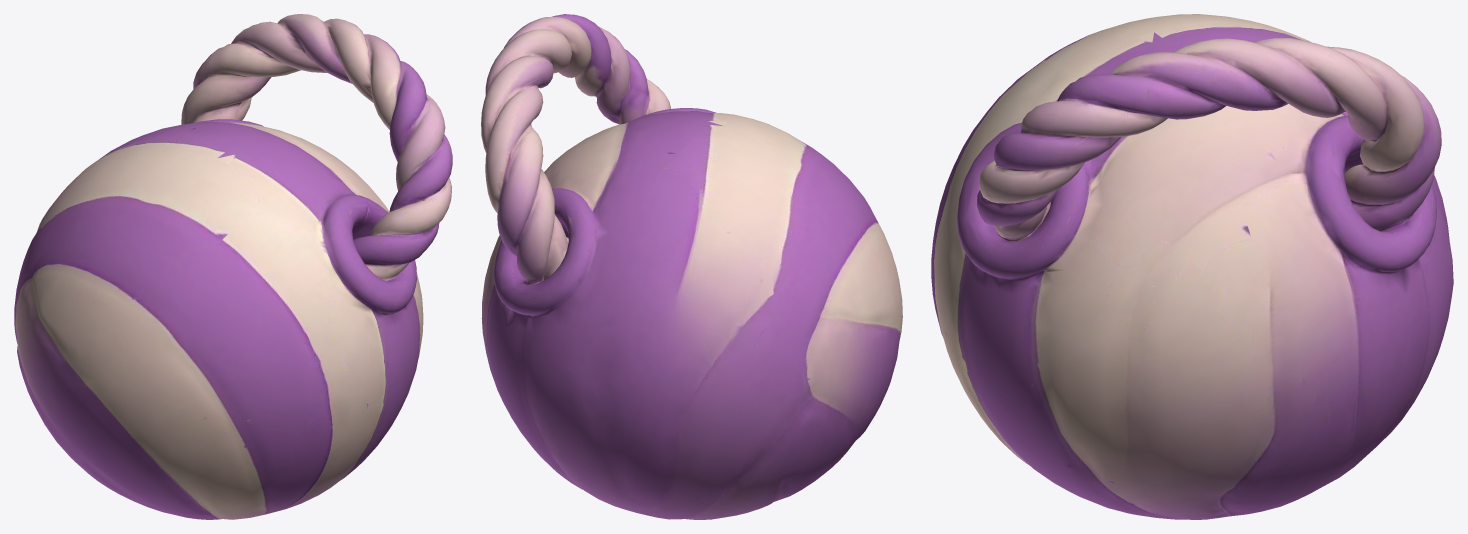
3 views of the same model, side by side, from view 1: azimuth 30°, elevation 25°; view 2: azimuth 150°, elevation 25°; view 3: azimuth 270°, elevation 25° (orthographic). The views are drawn at different scales.
Parts seen in each view (by area): view 1: play-ball; view 2: play-ball; view 3: play-ball.
Boxes of the visible parts, bbox=[...] form: play-ball: bbox=[14, 14, 452, 519]; play-ball: bbox=[481, 14, 902, 519]; play-ball: bbox=[931, 14, 1453, 519].
Size of the model in its own units: 0.3919 by 0.45 by 0.3912.
1 material, 1 textured.
